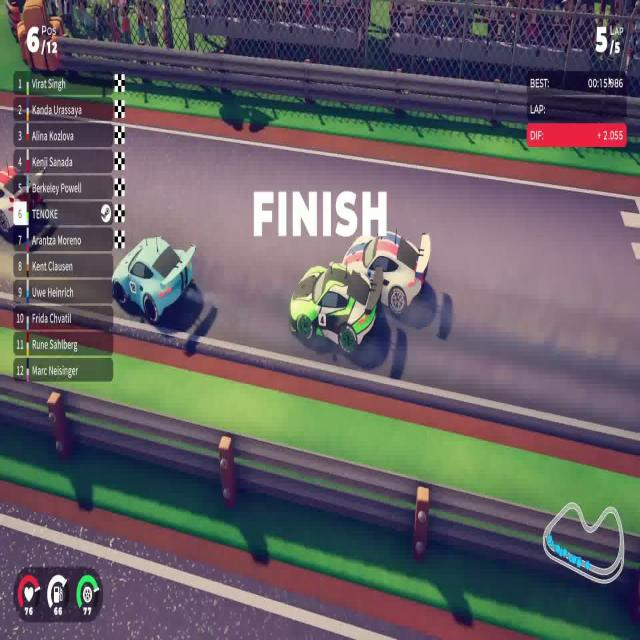car: (288, 259, 384, 354), (345, 223, 438, 316), (110, 234, 196, 325)
